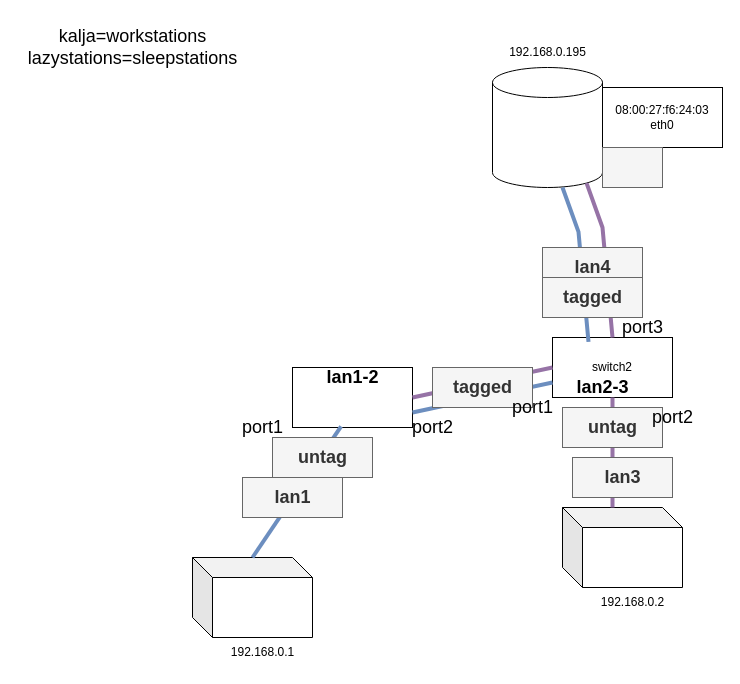
Some shapes in this 740 by 684 pixel diagram are drawn without their labels. Each missing label, with the box of its shape:
eth0: (602, 146, 662, 188)
lubuntu1: (192, 556, 312, 638)
lubuntu2: (562, 506, 682, 588)
router/vyos: (492, 66, 602, 188)
switch1: (292, 366, 412, 428)
